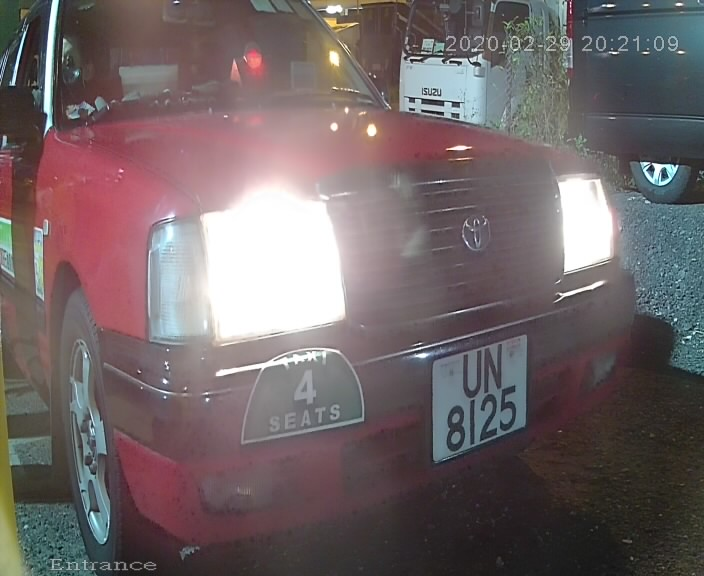taxi: (8, 4, 627, 563)
taxi_mark: (231, 332, 383, 458)
